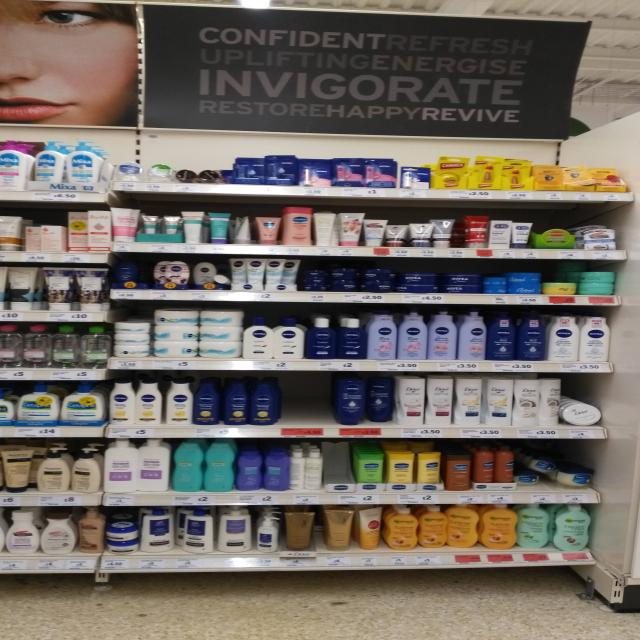void: (280, 371, 334, 423), (328, 446, 351, 483)
